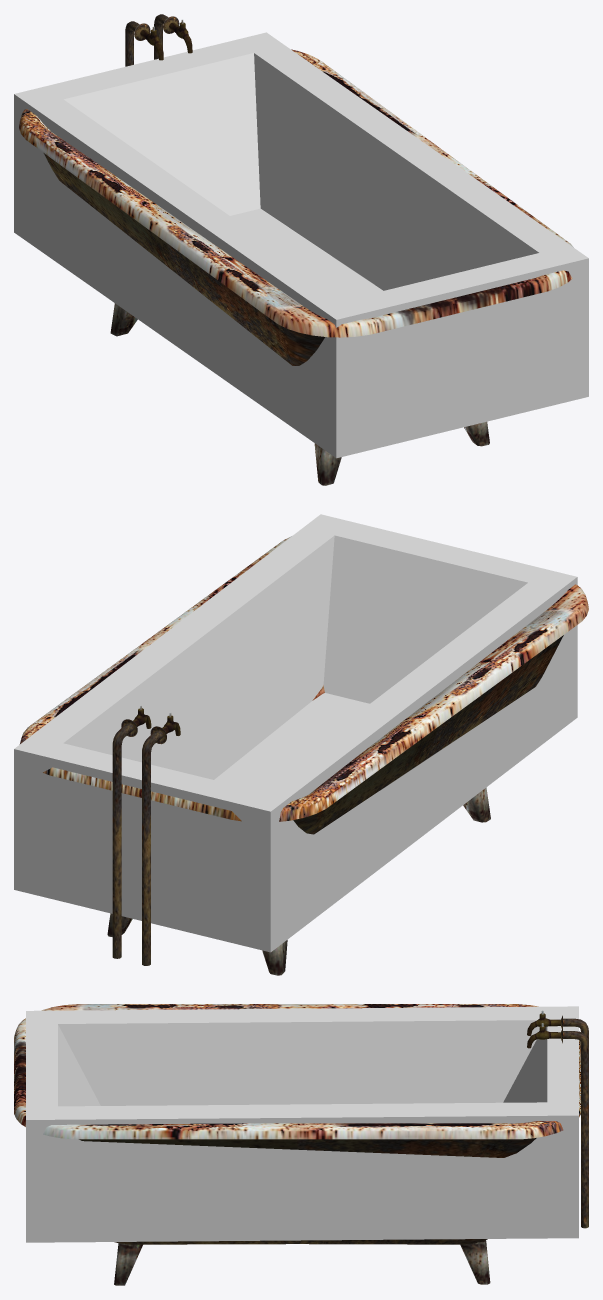
File: vanna.FBX
3 views of the same model, one above another, from view 1: azimuth 30°, elevation 25°; view 2: azimuth 150°, elevation 25°; view 3: azimuth 270°, elevation 25° (orthographic). The views are drawn at different scales.
Parts seen in each view (by area): view 1: X_moy001, vanna; view 2: X_moy001, vanna; view 3: X_moy001, vanna.
Boxes of the visible parts, bbox=[...] form: X_moy001: bbox=[14, 32, 588, 458]; vanna: bbox=[19, 14, 573, 485]; X_moy001: bbox=[14, 514, 577, 952]; vanna: bbox=[19, 536, 588, 975]; X_moy001: bbox=[26, 1006, 578, 1242]; vanna: bbox=[14, 1004, 588, 1285].
Bounding box in the file's own units: 1.12 × 0.9516 × 2.12.
1 material, 1 textured.
